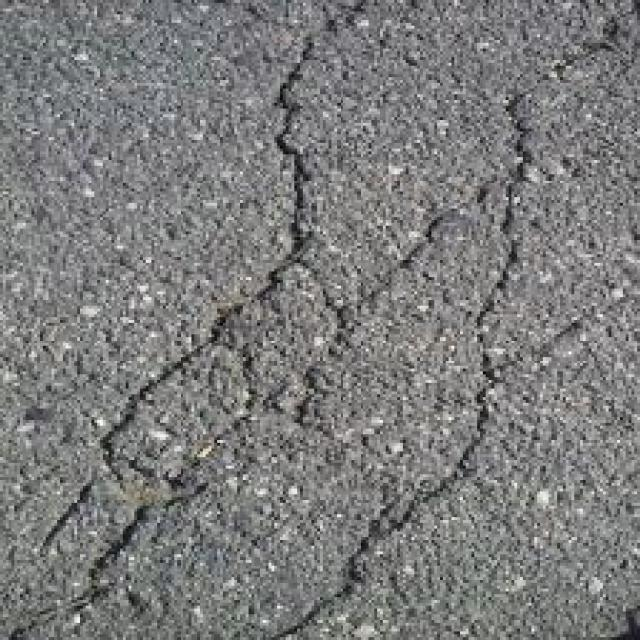crack: (322, 0, 640, 640), (52, 0, 366, 640)
